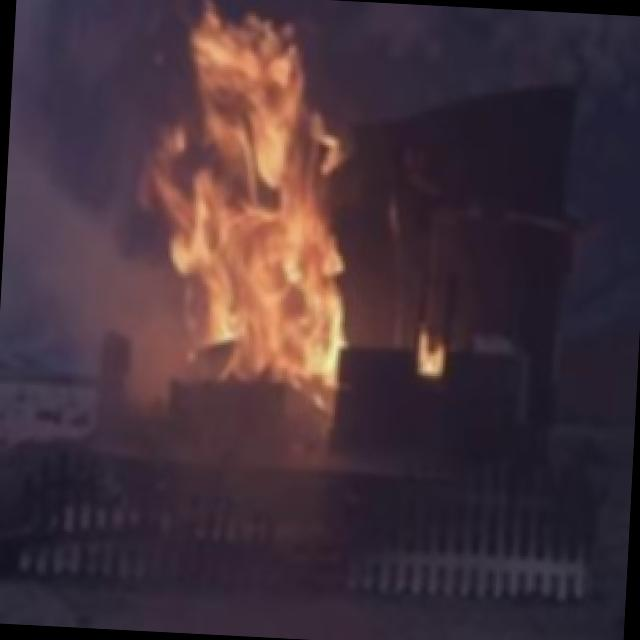fire: (136, 1, 398, 413)
